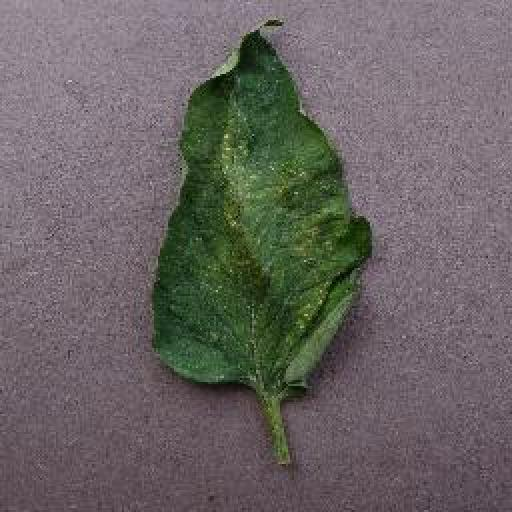disease_tomato: (153, 20, 372, 399)
